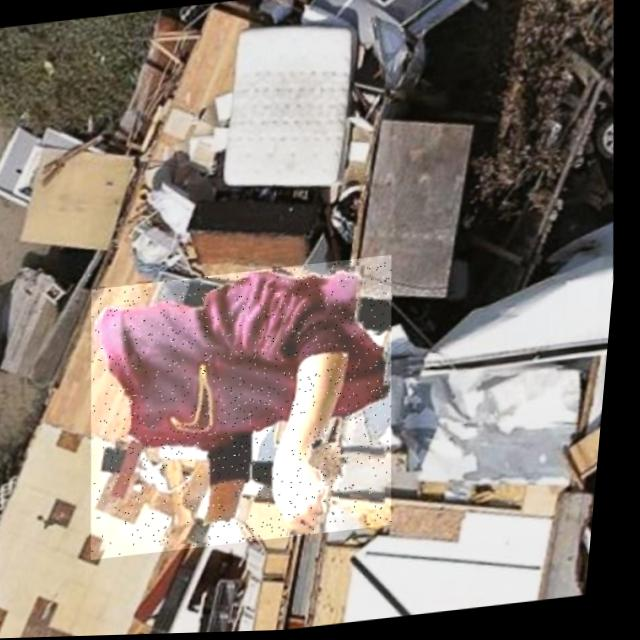Person in Rubble: (77, 255, 420, 560)
